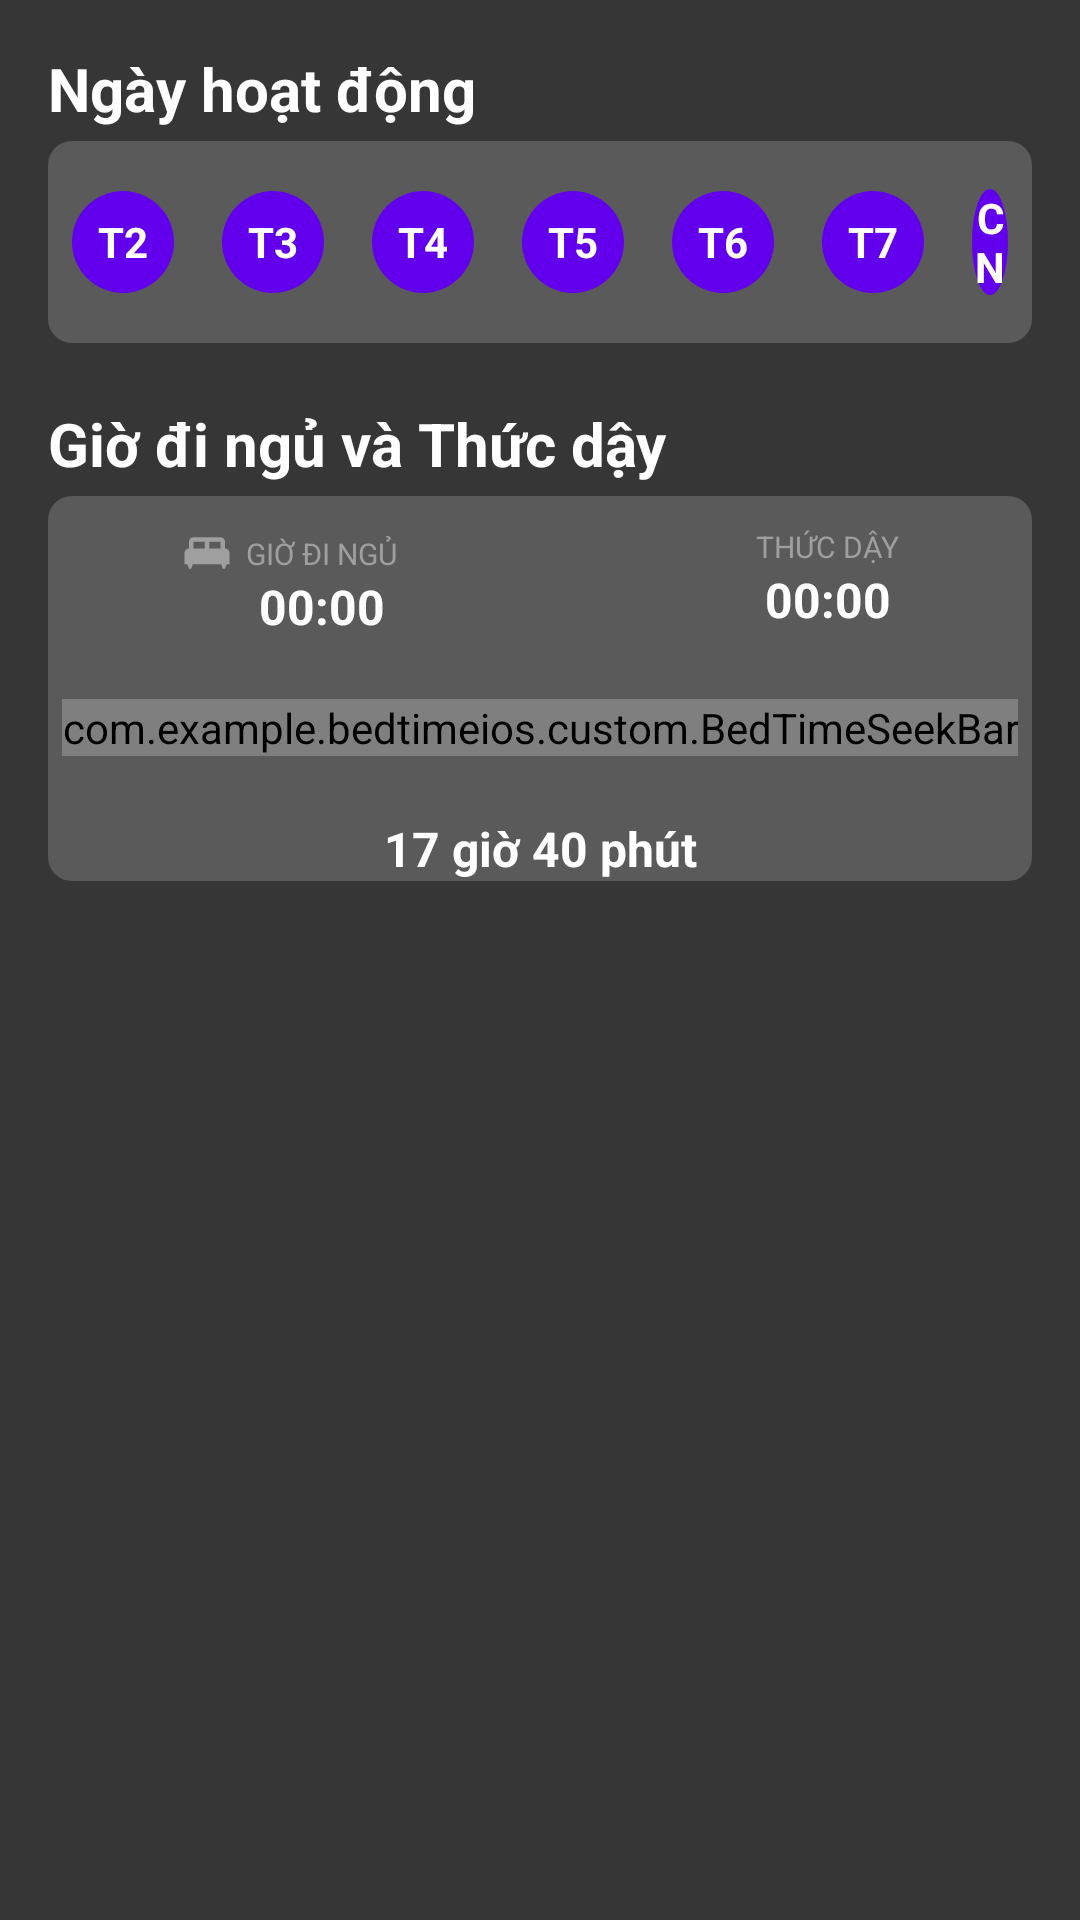

Icon click points for this 1080×1920 phone screenshot, format [x,y]:
king bed: [207,553]
